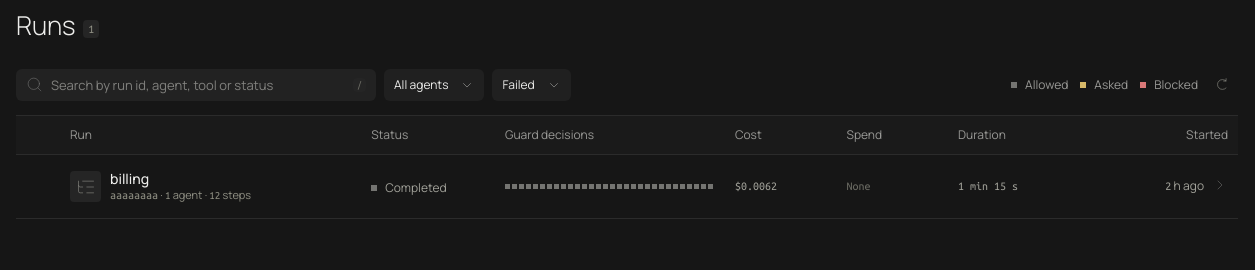
it: RunsPage › offers every recorded agent in the filter, even when the filter narrows the list
This screenshot has width=1255, height=270.
Click the dropdown named "Filter by agent": click(434, 85) [384,69,484,101]
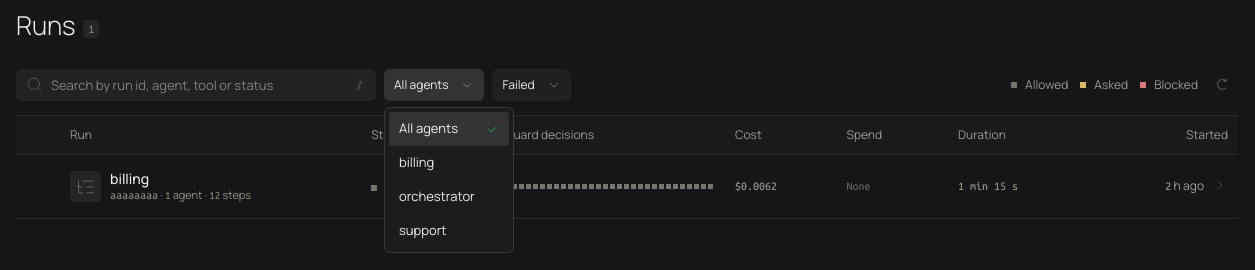
Result: the options read "All agents", "billing", "orchestrator", "support", in this order at [389,112,509,146]; [399,153,434,171]; [399,187,475,205]; [399,221,446,239]
